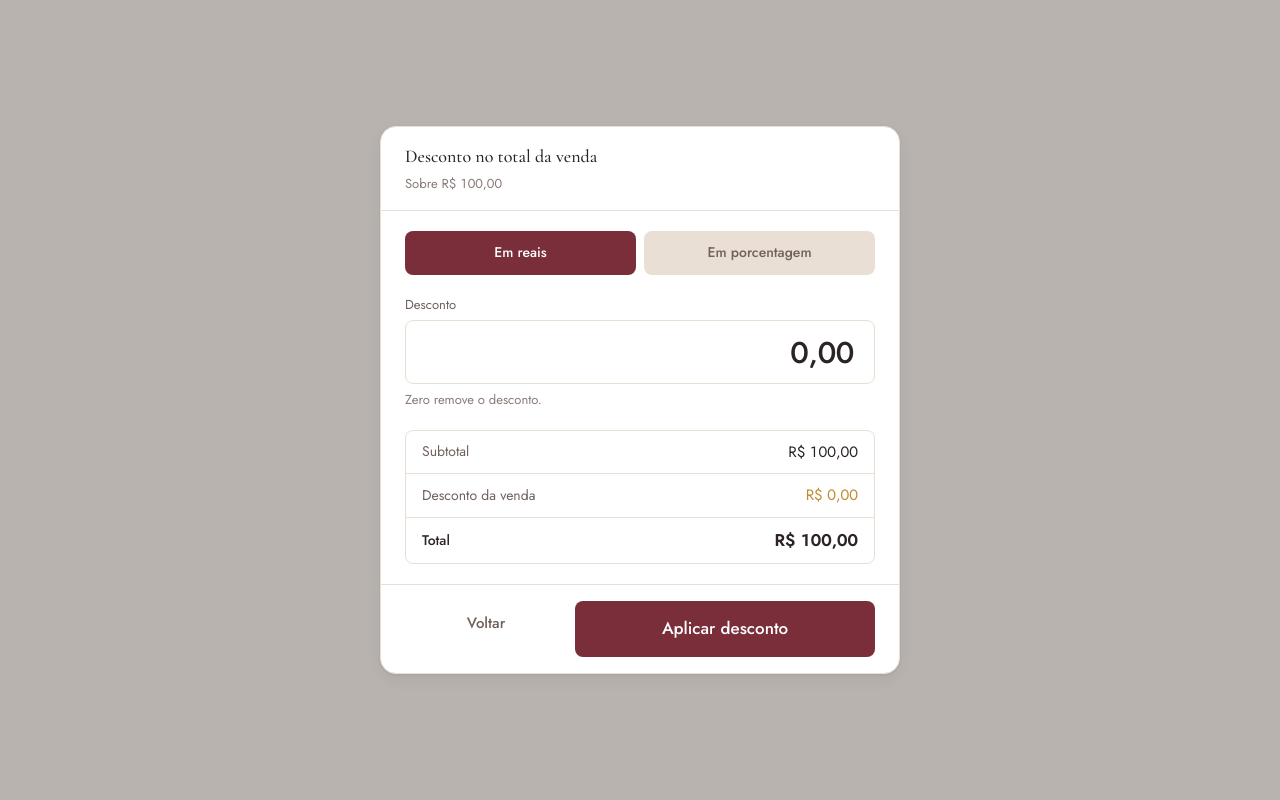
Test: ModalDesconto — acima da alçada › operadora sem alçada nenhuma precisa de gerente para qualquer desconto
Click the button "Em porcentagem" at [760, 252], box top-left (644, 230), bottom-right (875, 274)
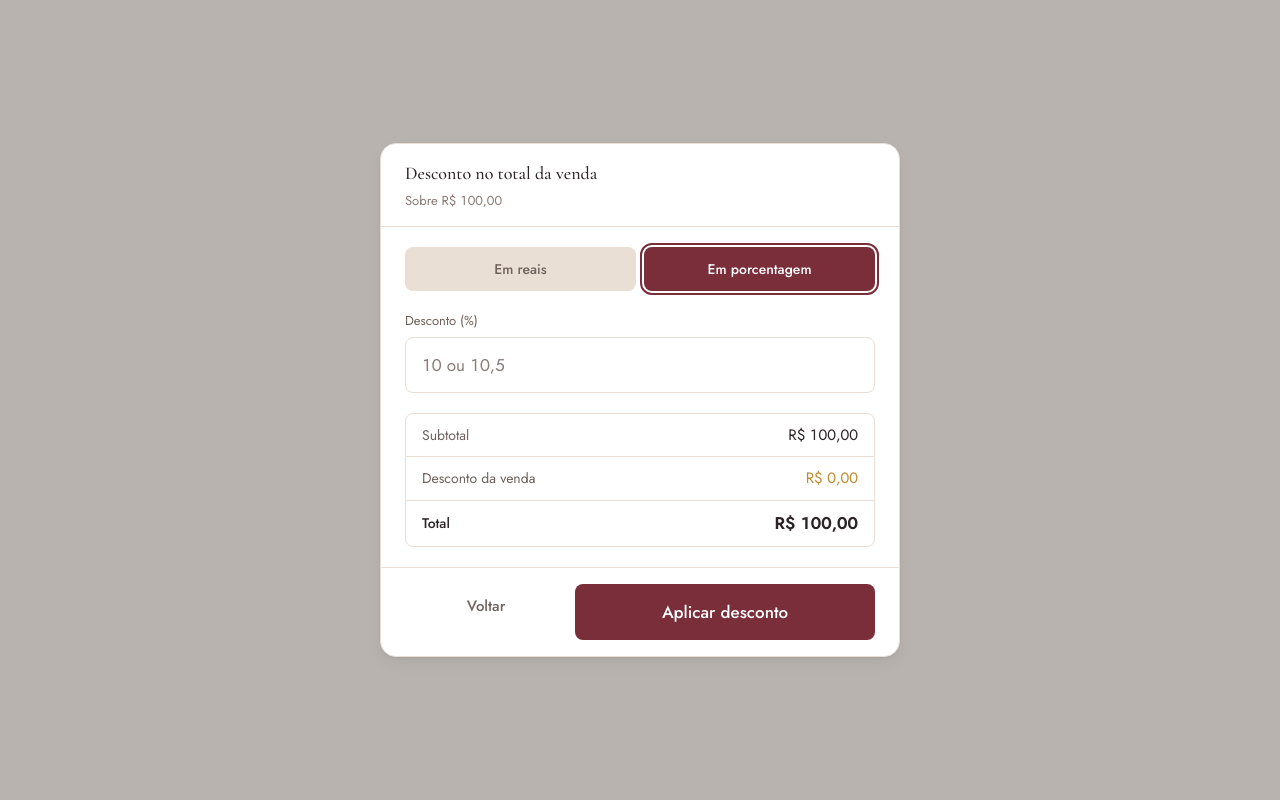
Type "1" into the field labelled "Desconto (%)" at [640, 365], box top-left (405, 337), bottom-right (875, 393)
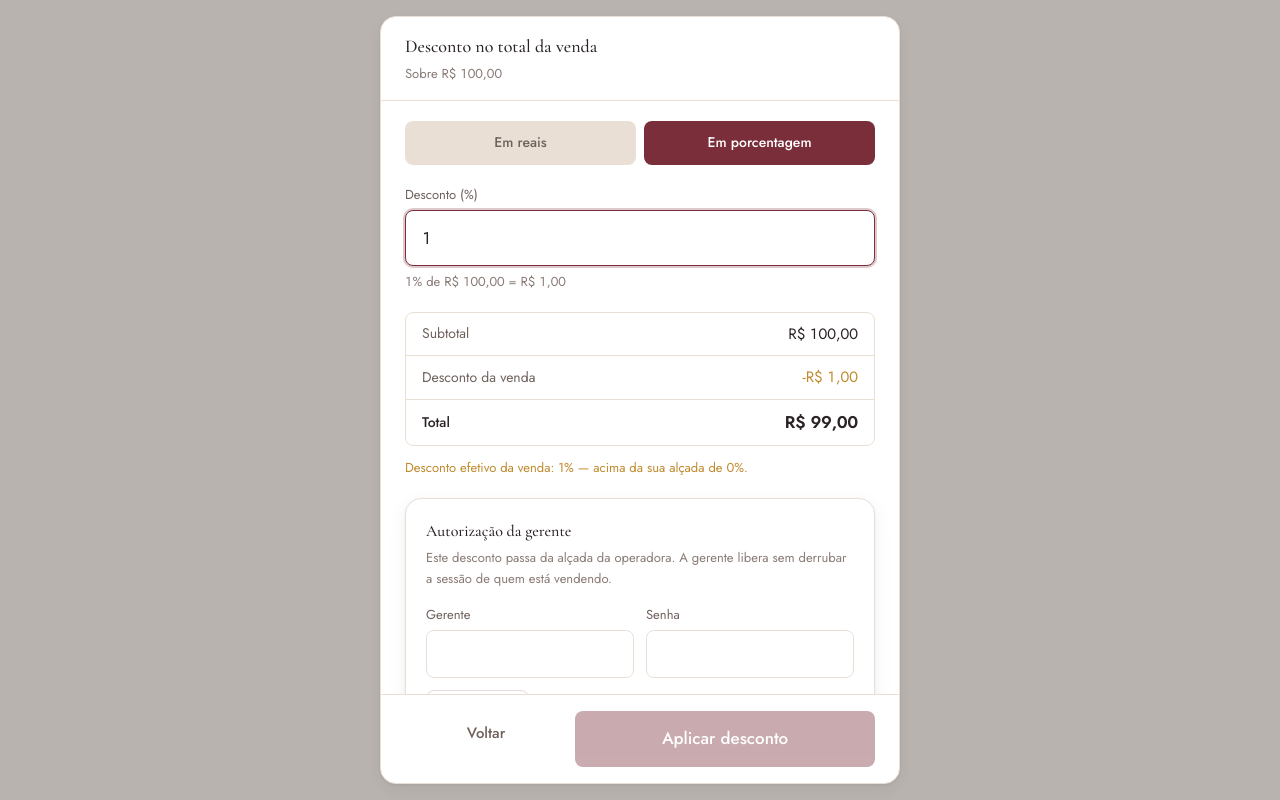
Expected: the button "Aplicar desconto" is disabled, top-left (575, 711), bottom-right (875, 767)
